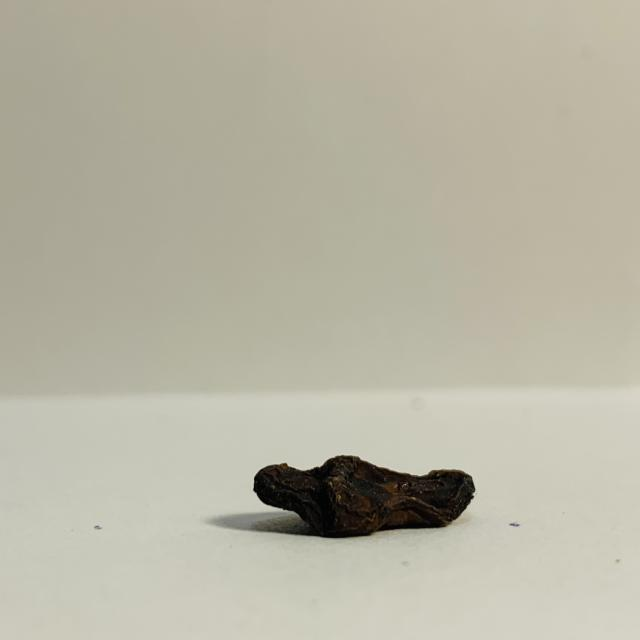Flat_cocoabeans: (160, 430, 589, 560)
